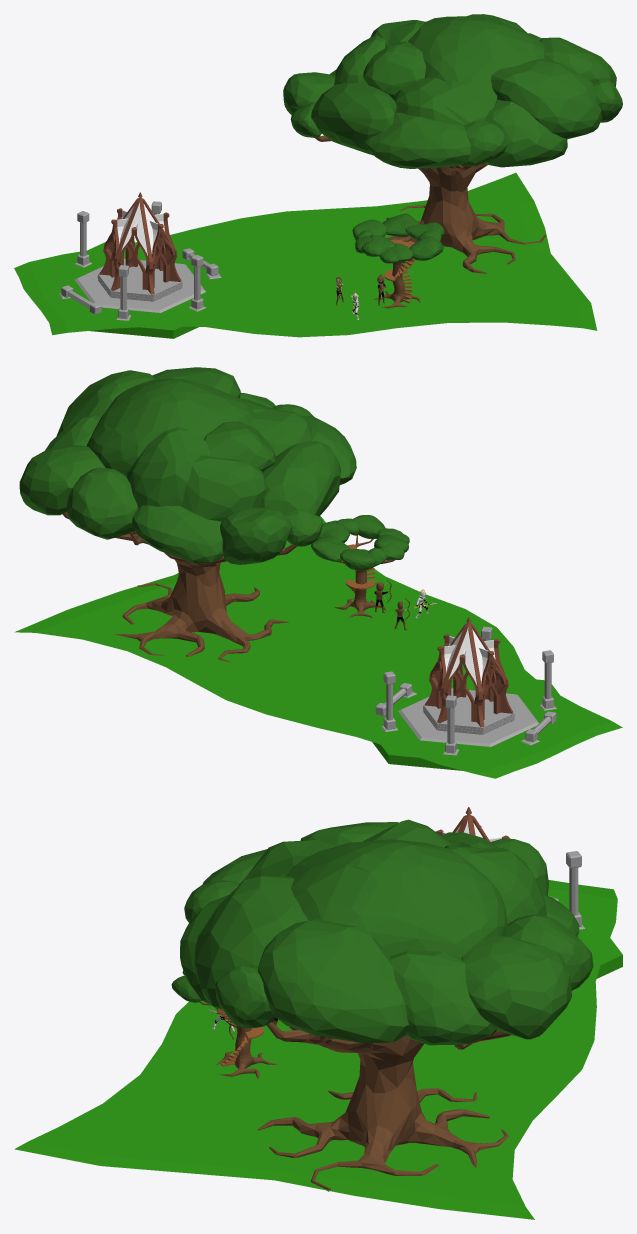
File: ElfForestShowcase.glb
3 views of the same model, one above another, from view 1: azimuth 30°, elevation 25°; view 2: azimuth 150°, elevation 25°; view 3: azimuth 270°, elevation 25° (orthographic). The views are drawn at different scales.
Parts seen in each view (by area): view 1: ForestShowcase, WorldTree, ElfShrine, Guardpost; view 2: WorldTree, ForestShowcase, ElfShrine, Guardpost; view 3: WorldTree, ForestShowcase, ElfShrine, Guardpost.
Part boxes in pixels (<box>): ForestShowcase: <box>14,172,597,337</box>; WorldTree: <box>283,14,622,273</box>; ElfShrine: <box>32,192,221,338</box>; Guardpost: <box>352,213,444,308</box>; WorldTree: <box>19,367,356,662</box>; ForestShowcase: <box>14,516,622,778</box>; ElfShrine: <box>372,617,559,770</box>; Guardpost: <box>311,515,409,618</box>; WorldTree: <box>180,819,593,1191</box>; ForestShowcase: <box>14,880,617,1219</box>; ElfShrine: <box>436,807,622,978</box>; Guardpost: <box>171,970,278,1078</box>.
Size of the model in its own units: 44.44 by 17.38 by 30.69.
